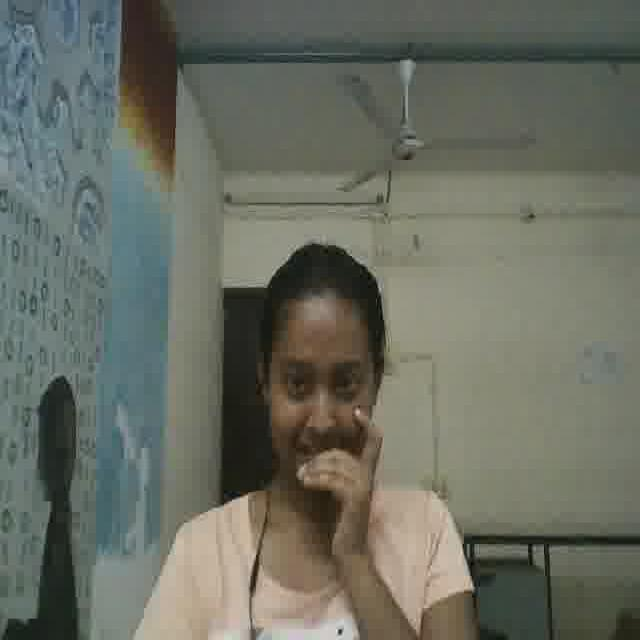Confusion: (266, 300, 374, 497)
